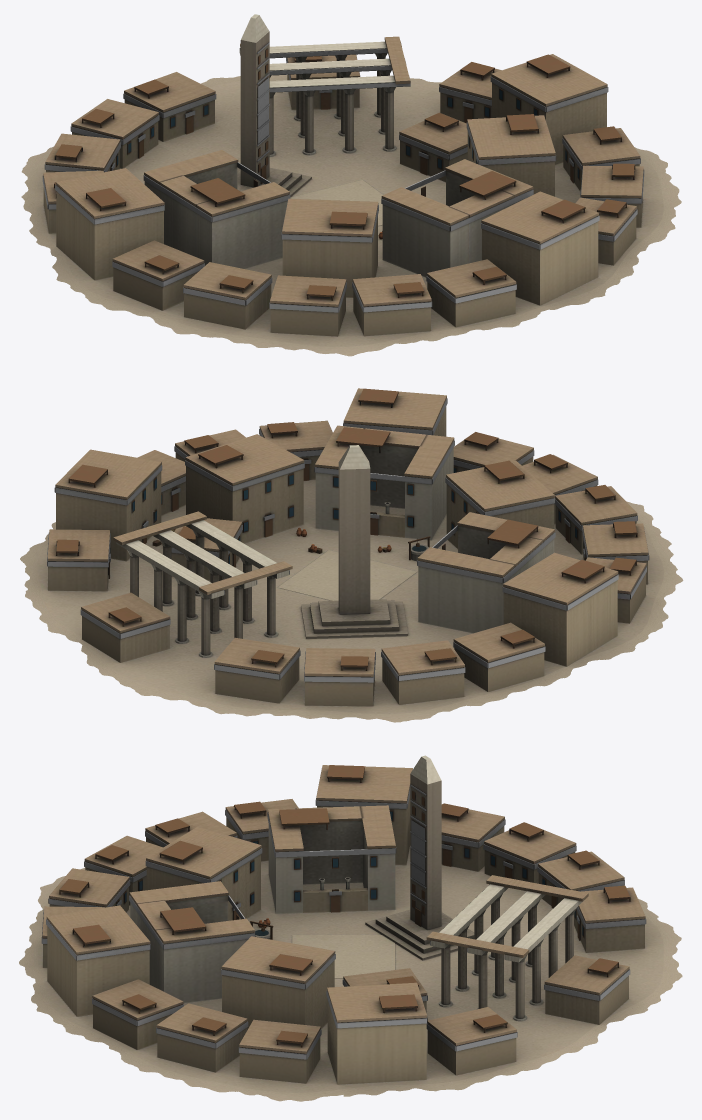
Rendered from classical-town-big-b-nile.glb.
The picture shows the model from 3 angles, top to bottom: view 1: azimuth 30°, elevation 25°; view 2: azimuth 150°, elevation 25°; view 3: azimuth 270°, elevation 25°; orthographic projection.
Visible parts, largest first — view 1: LOD0; view 2: LOD0; view 3: LOD0.
Boxes of the visible parts, bbox=[...] form: LOD0: bbox=[21, 14, 681, 356]; LOD0: bbox=[20, 388, 683, 722]; LOD0: bbox=[19, 755, 682, 1101].
Size of what is drawn, in the model's own units: 8.04 by 2.3 by 7.88.
3 materials, 3 textured.
